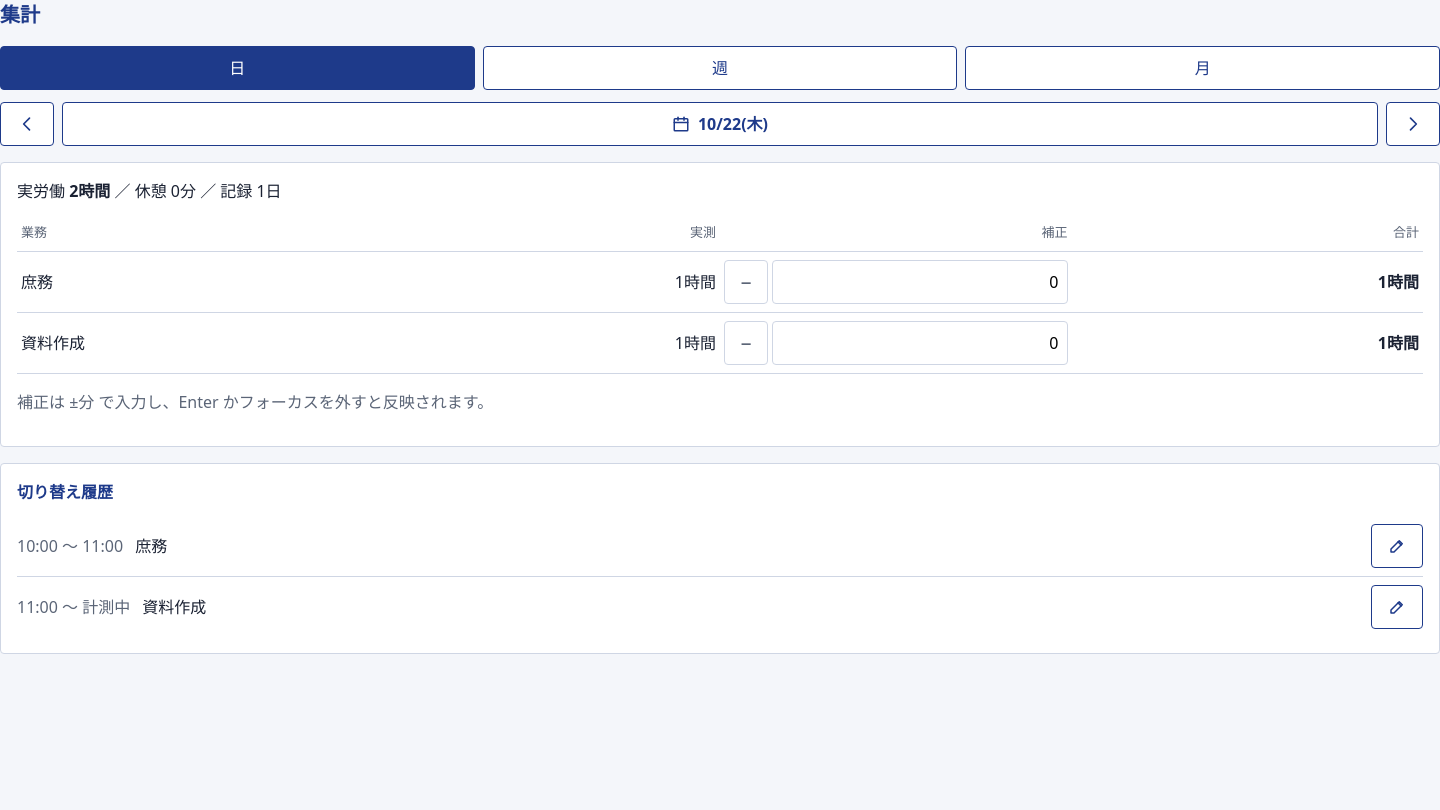
Test: 切り替え履歴の編集（集計 日） › 先頭の行は開始時刻が無効化され「業務開始」と出る
This screenshot has width=1440, height=810.
Click the 1st button with class "history__edit".
click(1397, 546)  # box [1371,524,1423,568]
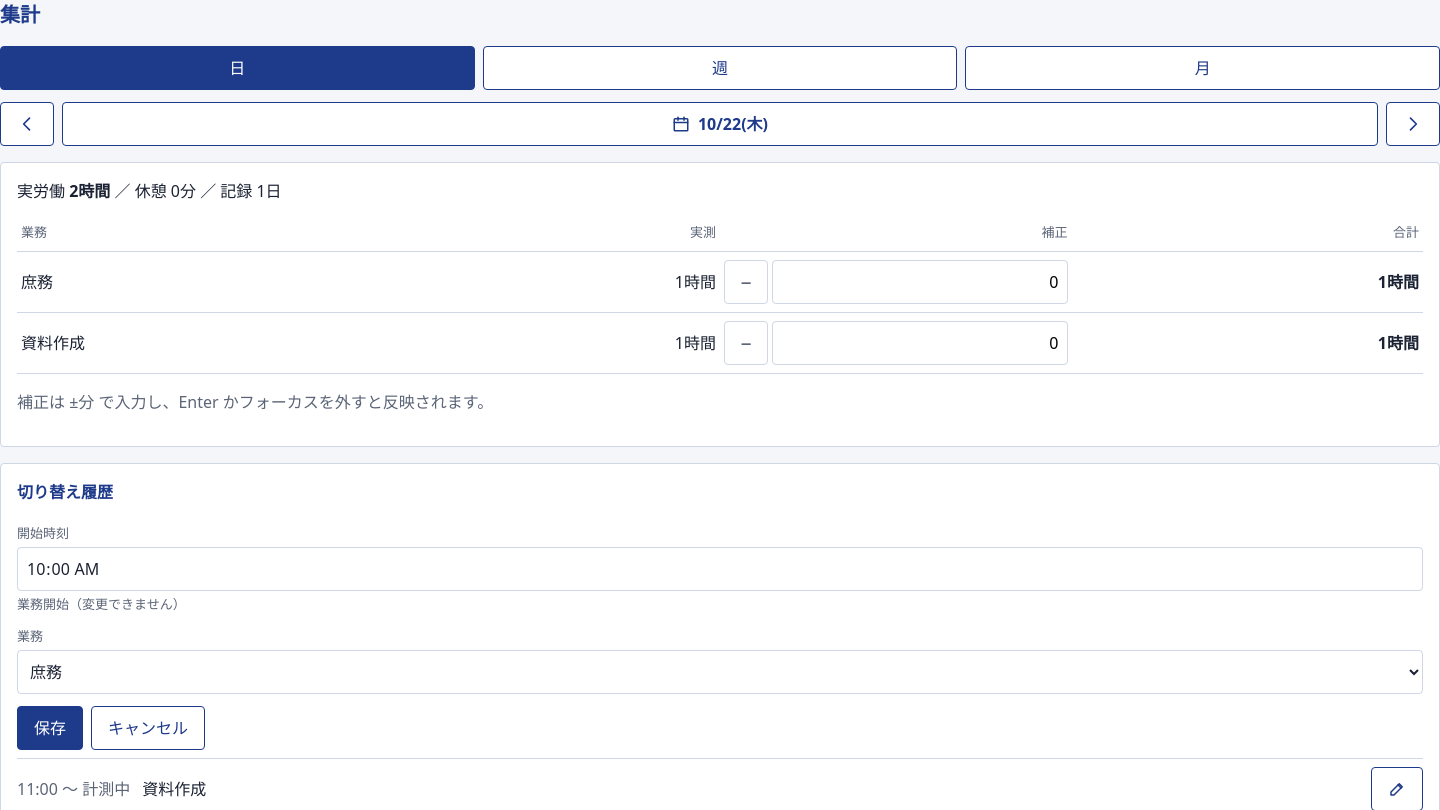
Expected: the time field labelled "開始時刻 業務開始（変更できません）" is disabled, [17,547,1423,591]
Expected: the form with class "history-edit" shows "業務開始", [17,595,69,613]
